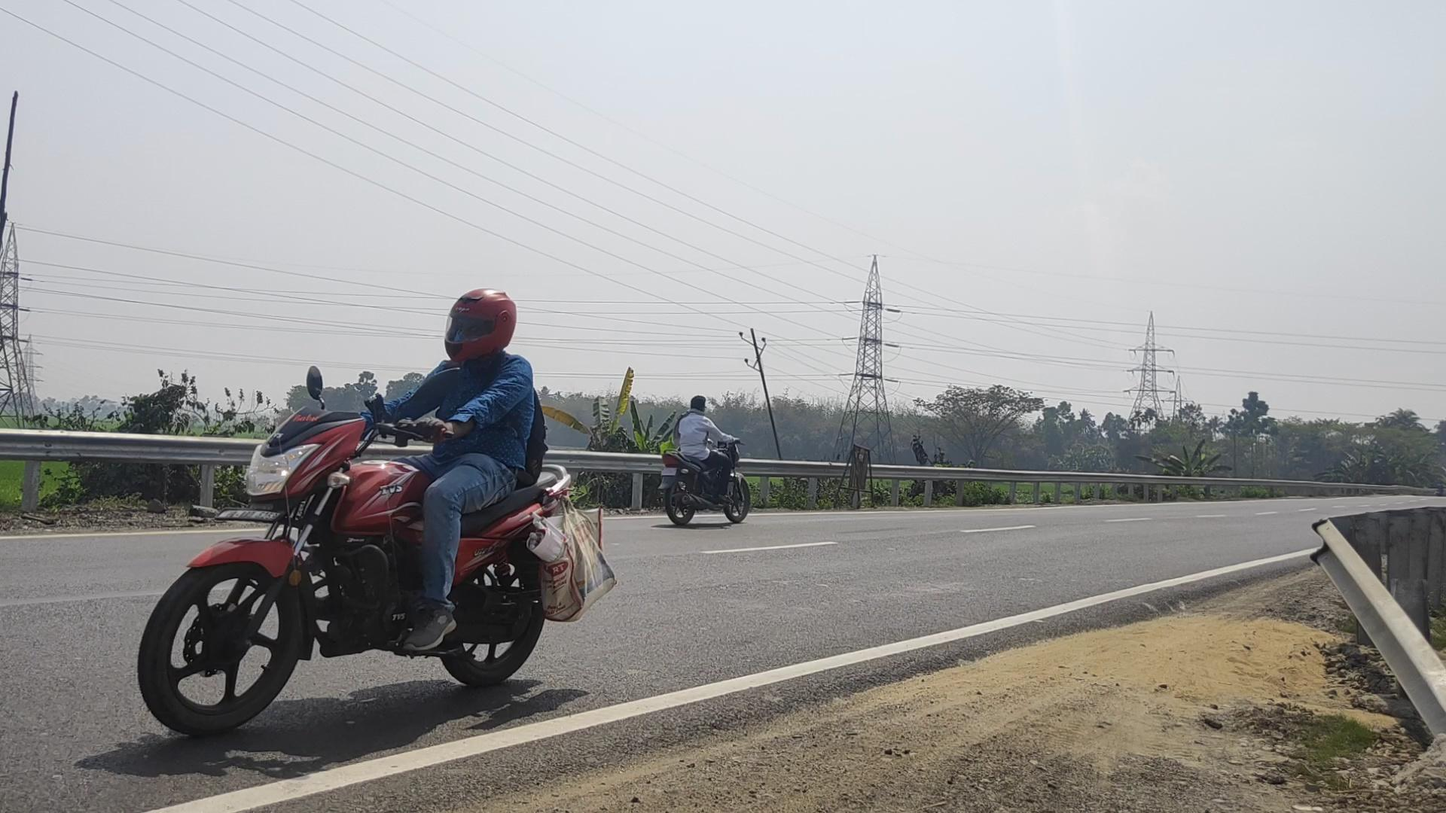bike: (138, 290, 615, 738), (659, 396, 751, 526)
